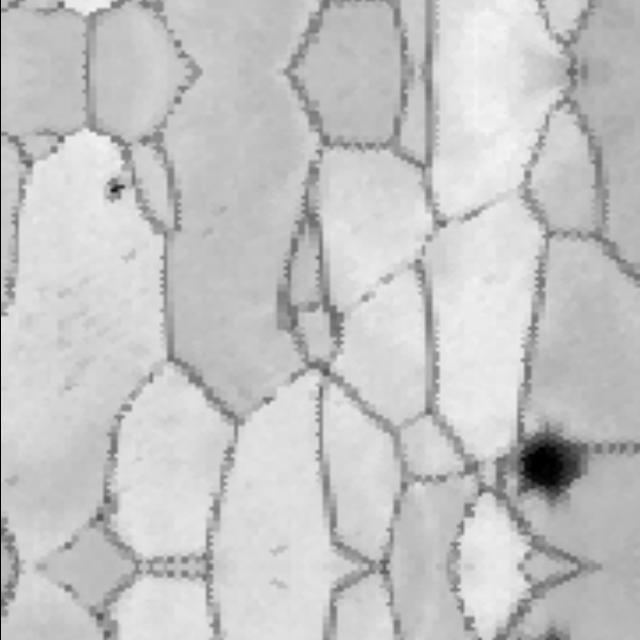good_void: (491, 412, 614, 519), (99, 167, 135, 213), (264, 537, 296, 562), (264, 574, 296, 599), (116, 237, 144, 264)
